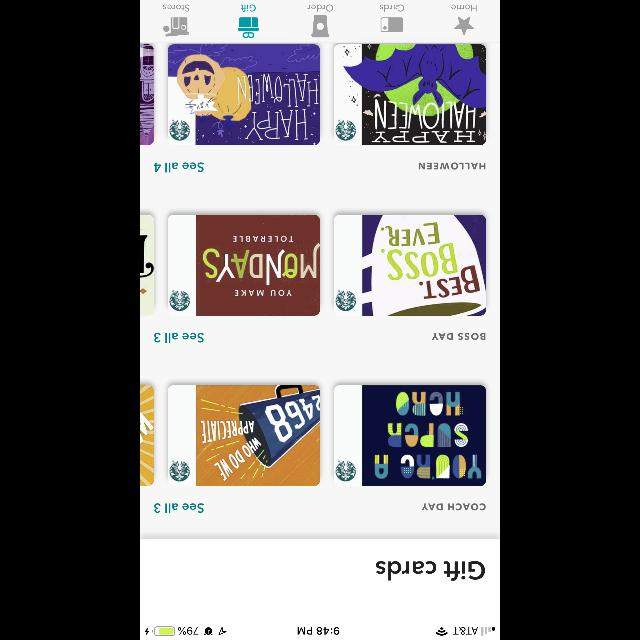icon: (238, 17, 258, 38), (454, 16, 474, 36), (381, 18, 404, 32)
image: (168, 44, 320, 146), (334, 44, 486, 146), (334, 214, 486, 316), (168, 214, 320, 316), (334, 384, 486, 486), (168, 386, 320, 486), (140, 44, 154, 146), (140, 214, 154, 316), (140, 384, 154, 486), (163, 18, 189, 36), (311, 15, 329, 38)
text: (376, 561, 484, 581), (154, 332, 204, 343), (418, 162, 486, 170), (153, 162, 204, 172), (154, 503, 204, 513), (421, 504, 485, 511), (432, 333, 484, 339), (380, 4, 404, 12), (307, 5, 333, 12), (163, 5, 189, 12), (452, 5, 476, 12), (240, 4, 256, 12)
uppertaskbar: (140, 626, 500, 640)
